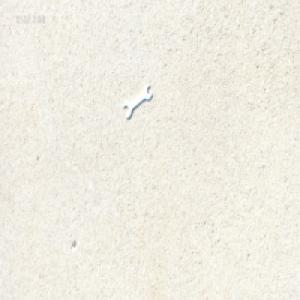Wrench: (123, 83, 153, 119)
